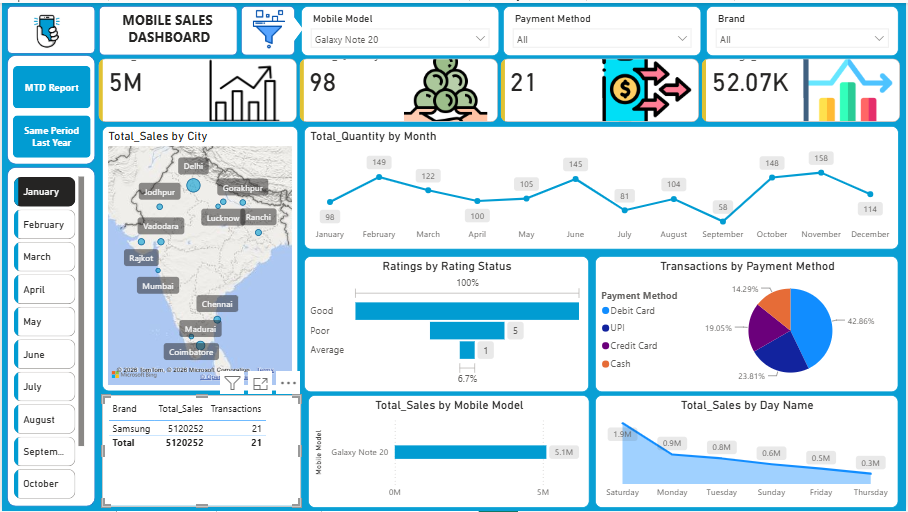

What the dashboard file says about the page in this screenshot:
{"tool":"powerbi","page":{"name":"Dashboard","canvas":[1280,720],"ordinal":0},"visuals":[{"type":"shape","box":[7.5,3.8,125,67.5],"z":0},{"type":"image","box":[23.8,3.8,78.8,71.2],"z":1000},{"type":"shape","box":[7.5,73.8,125,155],"z":2000},{"type":"shape","box":[7.5,232.5,125,481.2],"z":3000},{"type":"advancedSlicerVisual","fields":{"Values":["Custom_Calendar.Date.Variation.Date Hierarchy.Month"]},"box":[11.2,241.2,110,472.5],"z":4000},{"type":"cardVisual","fields":{"Data":["Sales_Data.Total_Sales","Sales_Data.Total_Quantity","Sales_Data.Transactions","Sales_Data.Average_Price"]},"box":[132.5,73.8,1147.5,100],"z":5000},{"type":"slicer","fields":{"Values":["Sales_Data.Mobile Model"]},"box":[423.8,3.8,281.2,71.2],"z":6000},{"type":"slicer","fields":{"Values":["Sales_Data.Payment Method"]},"box":[710,3.8,281.2,71.2],"z":7000},{"type":"slicer","fields":{"Values":["Sales_Data.Brand"]},"box":[997.5,3.8,272.5,71.2],"z":8000},{"type":"shape","box":[338.8,3.8,76.2,70],"z":9000},{"type":"image","box":[337.5,3.8,81.2,66.2],"z":10000},{"type":"shape","box":[397.5,17.5,30,40],"z":11000},{"type":"shape","box":[137.5,3.8,196.2,70],"z":12000},{"type":"textbox","box":[156.2,6.2,162.5,63.8],"z":13000},{"type":"map","fields":{"Category":["Sales_Data.City"],"Size":["Sales_Data.Total_Sales"]},"box":[141.2,175,277.5,376.2],"z":14000},{"type":"lineChart","fields":{"Y":["Sales_Data.Total_Quantity"],"Category":["Custom_Calendar.Date.Variation.Date Hierarchy.Month"]},"box":[427.5,175,842.5,175],"z":15000},{"type":"funnel","title":"Ratings by Rating Status","fields":{"Y":["CountNonNull(Sales_Data.Customer Ratings)"],"Category":["Sales_Data.Rating Status"]},"box":[427.5,358.8,403.8,192.5],"z":16000},{"type":"pieChart","fields":{"Y":["Sales_Data.Transactions"],"Category":["Sales_Data.Payment Method"]},"box":[840,358.8,430,192.5],"z":17000},{"type":"clusteredBarChart","fields":{"Y":["Sales_Data.Total_Sales"],"Category":["Sales_Data.Mobile Model"]},"box":[433.8,556.2,398.8,160],"z":18000},{"type":"areaChart","fields":{"Y":["Sales_Data.Total_Sales"],"Category":["Custom_Calendar.Day Name"]},"box":[840,556.2,430,160],"z":19000},{"type":"tableEx","fields":{"Values":["Sales_Data.Brand","Sales_Data.Total_Sales","Sales_Data.Transactions"]},"box":[141.2,556.2,282.5,157.5],"z":20000},{"type":"pageNavigator","box":[15,88.8,110,130],"z":21000}]}

Visuals, with their boxes in screenshot pixels (x1, y1, x2, y2), scaled from the page's 1280x720 canvas onto the 908x512 screenshot:
shape: {"x1": 5, "y1": 3, "x2": 94, "y2": 51}
image: {"x1": 17, "y1": 3, "x2": 73, "y2": 53}
shape: {"x1": 5, "y1": 52, "x2": 94, "y2": 163}
shape: {"x1": 5, "y1": 165, "x2": 94, "y2": 508}
advancedSlicerVisual - Custom_Calendar.Date.Variation.Date Hierarchy.Month: {"x1": 8, "y1": 172, "x2": 86, "y2": 508}
cardVisual - Sales_Data.Total_Sales x Sales_Data.Total_Quantity: {"x1": 94, "y1": 52, "x2": 907, "y2": 124}
slicer - Sales_Data.Mobile Model: {"x1": 301, "y1": 3, "x2": 500, "y2": 53}
slicer - Sales_Data.Payment Method: {"x1": 504, "y1": 3, "x2": 703, "y2": 53}
slicer - Sales_Data.Brand: {"x1": 708, "y1": 3, "x2": 901, "y2": 53}
shape: {"x1": 240, "y1": 3, "x2": 294, "y2": 52}
image: {"x1": 239, "y1": 3, "x2": 297, "y2": 50}
shape: {"x1": 282, "y1": 12, "x2": 303, "y2": 41}
shape: {"x1": 98, "y1": 3, "x2": 237, "y2": 52}
textbox: {"x1": 111, "y1": 4, "x2": 226, "y2": 50}
map - Sales_Data.City x Sales_Data.Total_Sales: {"x1": 100, "y1": 124, "x2": 297, "y2": 392}
lineChart - Sales_Data.Total_Quantity x Custom_Calendar.Date.Variation.Date Hierarchy.Month: {"x1": 303, "y1": 124, "x2": 901, "y2": 249}
"Ratings by Rating Status" funnel: {"x1": 303, "y1": 255, "x2": 590, "y2": 392}
pieChart - Sales_Data.Transactions x Sales_Data.Payment Method: {"x1": 596, "y1": 255, "x2": 901, "y2": 392}
clusteredBarChart - Sales_Data.Total_Sales x Sales_Data.Mobile Model: {"x1": 308, "y1": 396, "x2": 591, "y2": 509}
areaChart - Sales_Data.Total_Sales x Custom_Calendar.Day Name: {"x1": 596, "y1": 396, "x2": 901, "y2": 509}
tableEx - Sales_Data.Brand x Sales_Data.Total_Sales: {"x1": 100, "y1": 396, "x2": 301, "y2": 508}
pageNavigator: {"x1": 11, "y1": 63, "x2": 89, "y2": 156}
